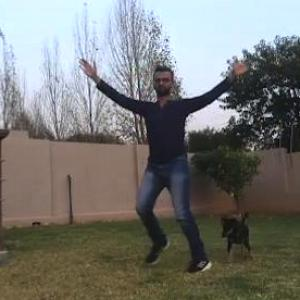takeoff: (114, 63, 268, 275)
